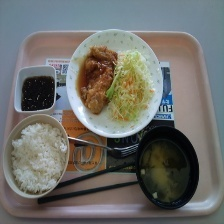rice: (6, 120, 71, 199)
